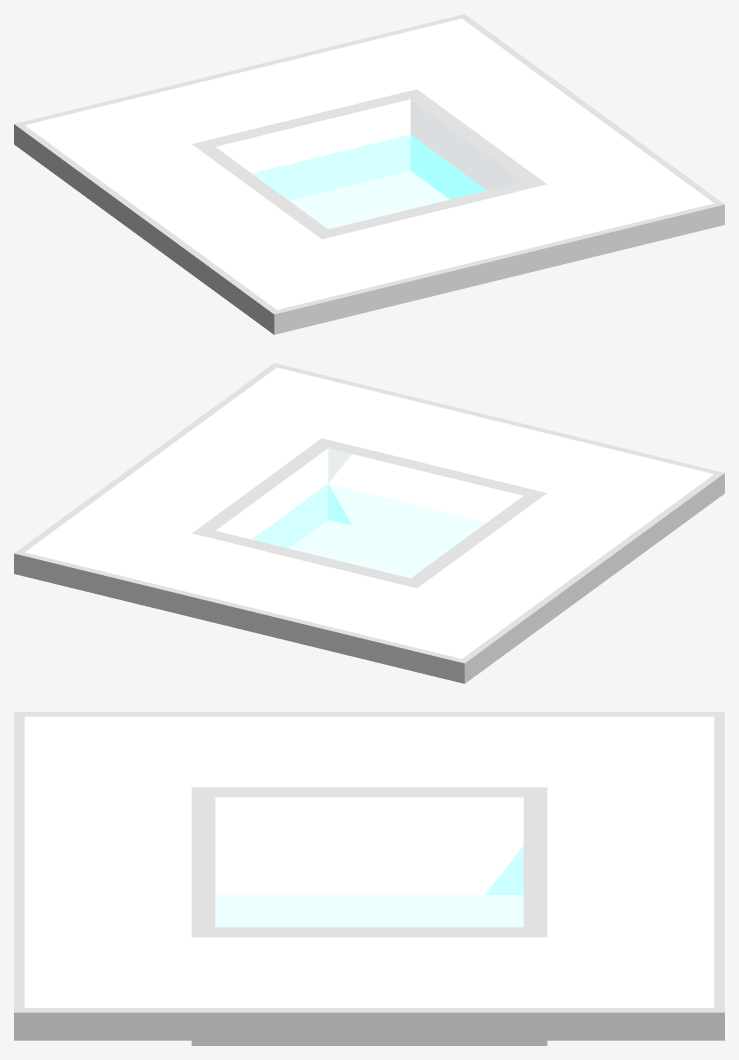
Rendered from 120-island-fake-reflections.glb.
The picture shows the model from 3 angles, top to bottom: view 1: azimuth 30°, elevation 25°; view 2: azimuth 150°, elevation 25°; view 3: azimuth 270°, elevation 25°; orthographic projection. The views are drawn at different scales.
Visible parts, largest first — view 1: 120_island_nature_connect_; view 2: 120_island_nature_connect_; view 3: 120_island_nature_connect_.
Part boxes in pixels (<box>): 120_island_nature_connect_: <box>14,14,724,334</box>; 120_island_nature_connect_: <box>14,363,724,683</box>; 120_island_nature_connect_: <box>14,712,724,1045</box>.
Bounding box in the file's own units: 1.2 × 0.2019 × 1.2.
